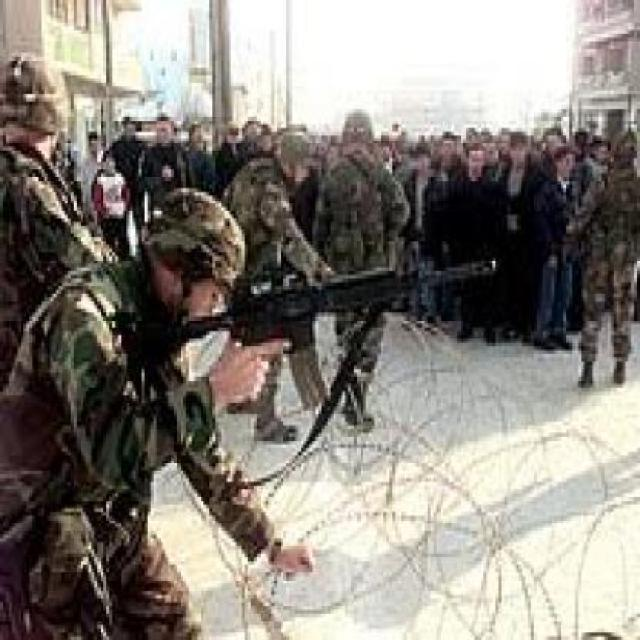weapon: (124, 247, 491, 438)
